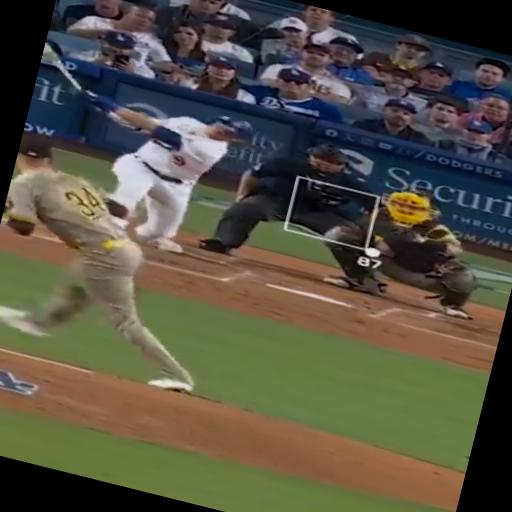bat: (42, 43, 83, 92)
